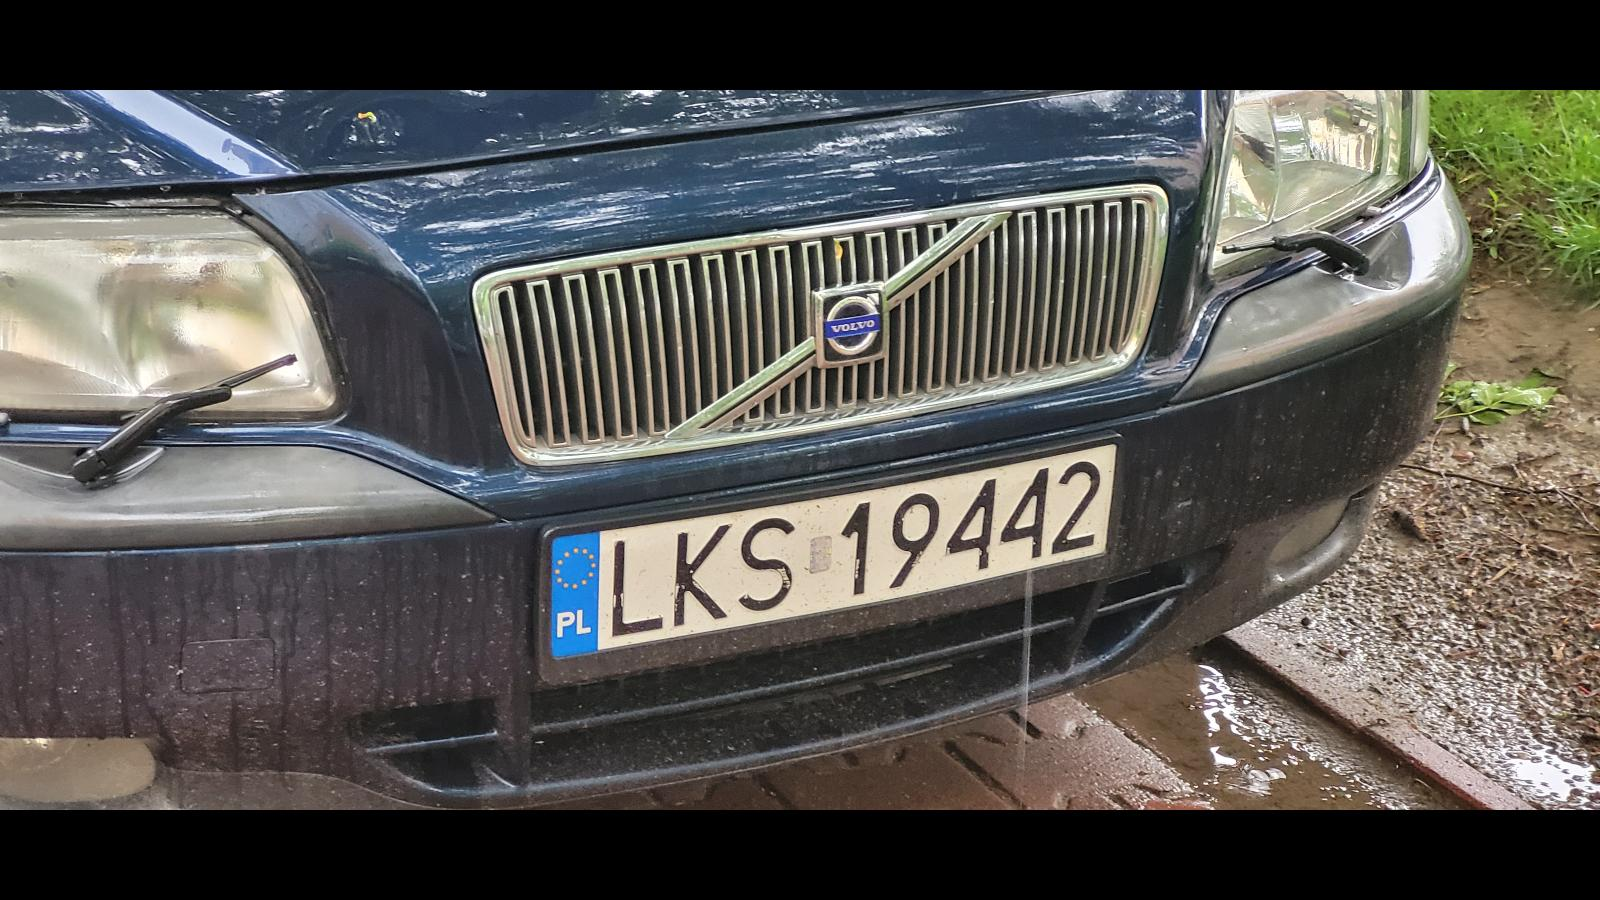plates: (540, 436, 1124, 684)
